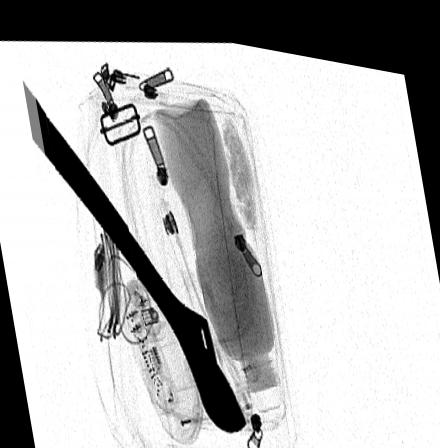Wrench: (32, 87, 248, 426)
